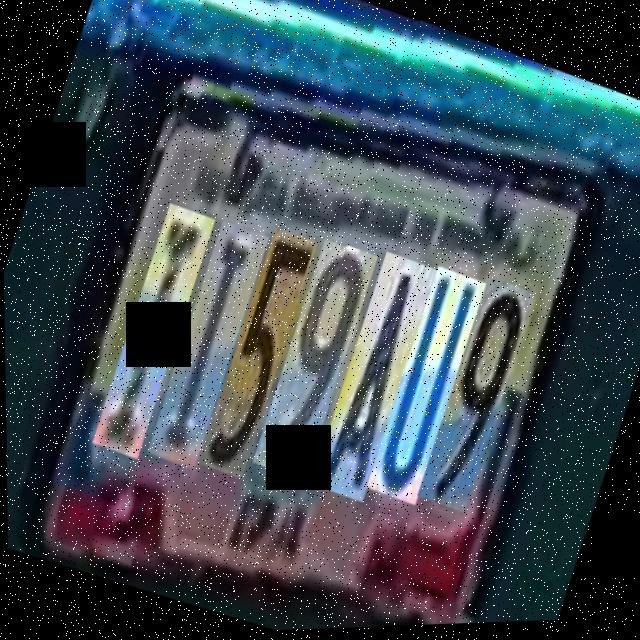5: (195, 224, 324, 477)
9: (249, 236, 381, 479), (413, 273, 540, 513)
A: (307, 249, 441, 503)
I: (88, 201, 219, 458), (143, 217, 273, 468)
U: (362, 263, 490, 505)
